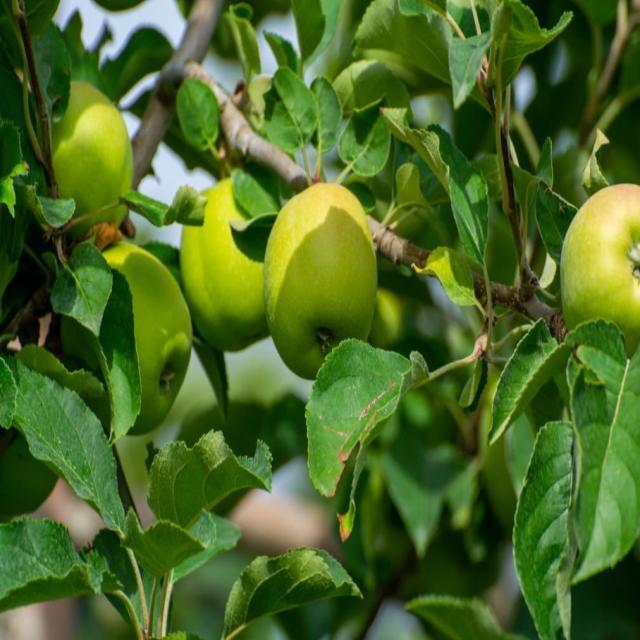Green Apple: (271, 192, 381, 368), (87, 241, 196, 406), (31, 82, 137, 229), (179, 187, 290, 327), (574, 180, 640, 321)
